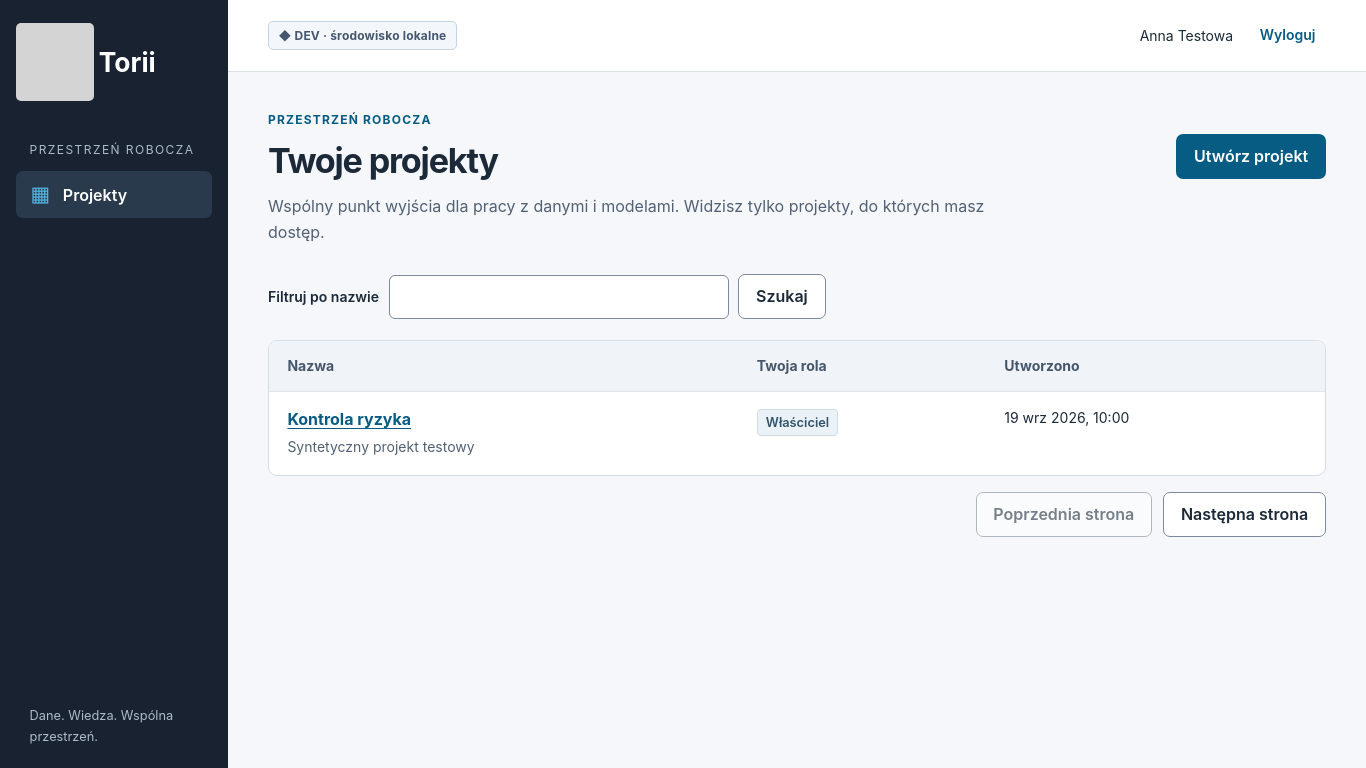
SPEC-0001 access policy and SPEC-0017 conflict/revocation UI › supports project pagination and resets the cursor when filtering
Click the button "Następna strona": [1245, 514] box [1163,492,1326,537]
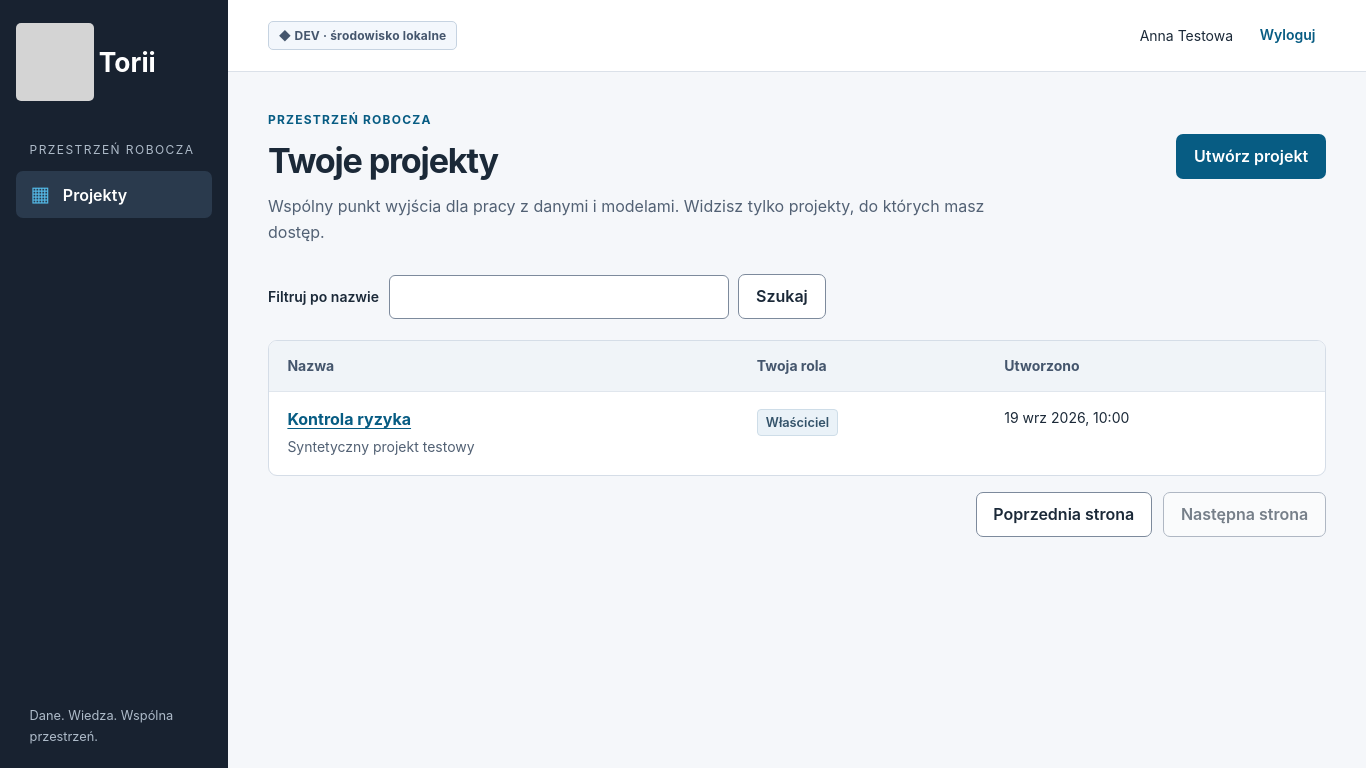
In the search field labelled "Filtruj po nazwie": [559, 297] box [389,275,729,319], type "ryzyko"
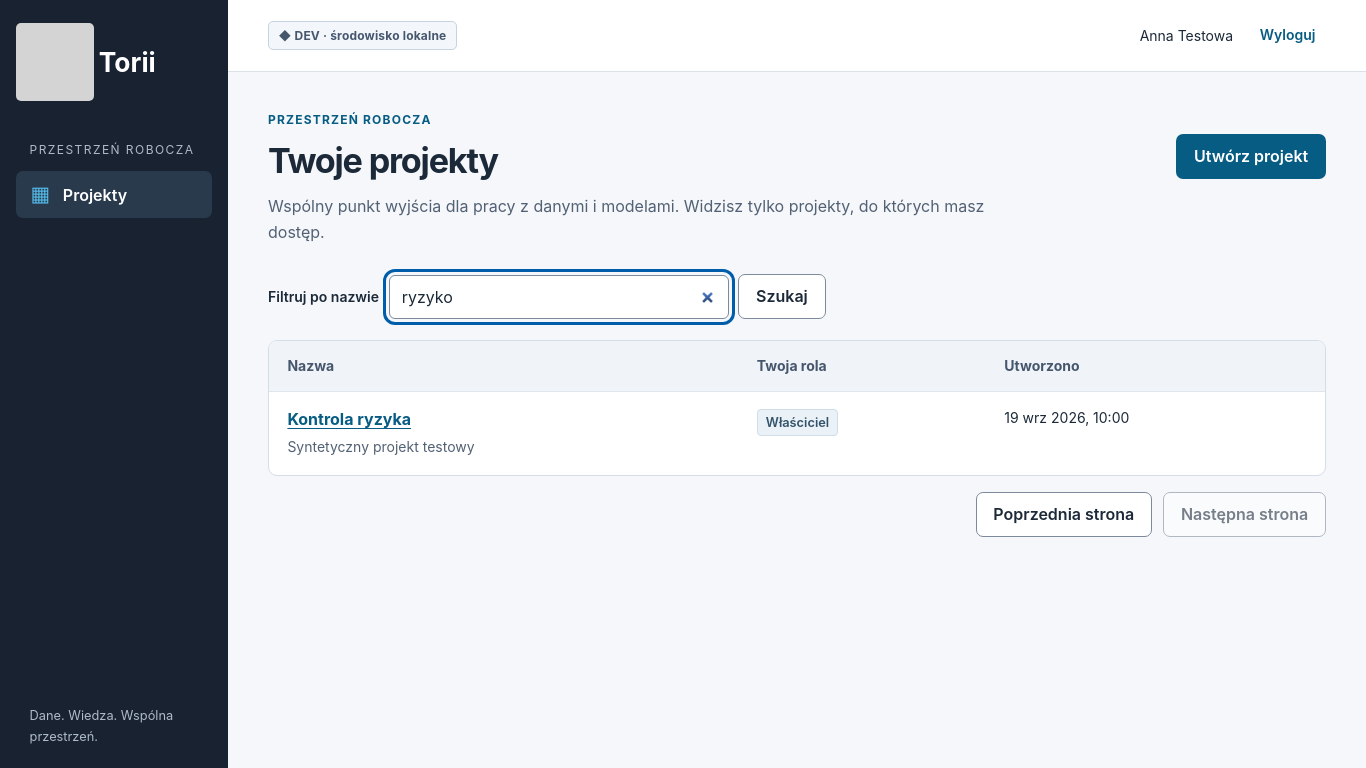
Click the button "Szukaj": [782, 297] box [738,274,826,319]
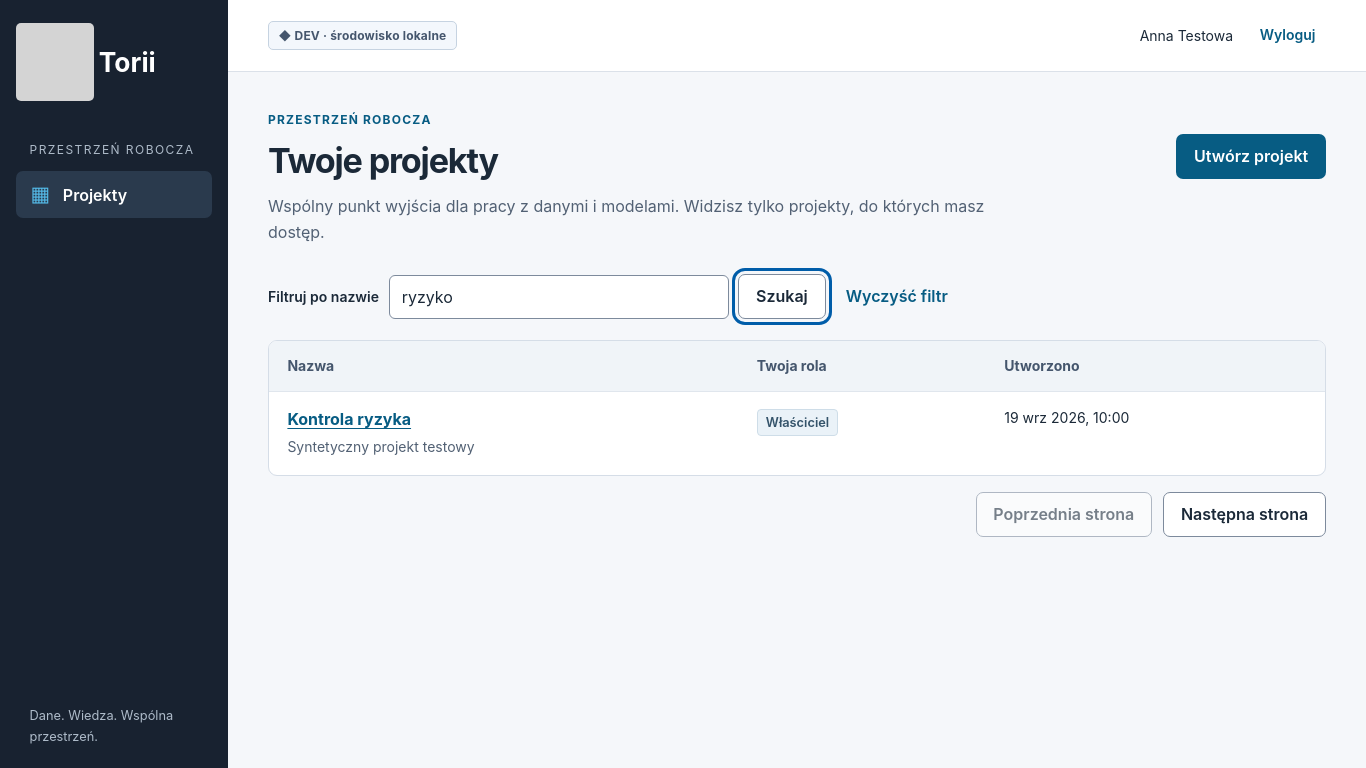
Now the button "Wyczyść filtr" is shown, box [835,275,958,319]
